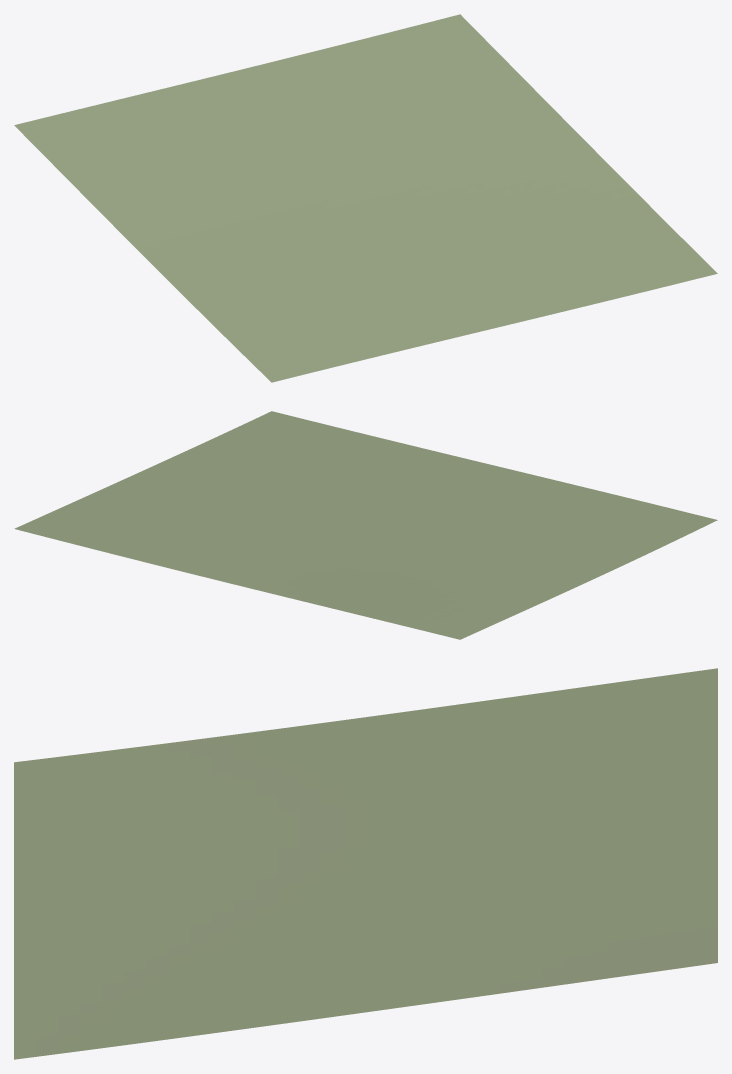
File: desert-25-11.glb
3 views of the same model, one above another, from view 1: azimuth 30°, elevation 25°; view 2: azimuth 150°, elevation 25°; view 3: azimuth 270°, elevation 25° (orthographic). The views are drawn at different scales.
Visible parts, largest first — view 1: desert-25-11; view 2: desert-25-11; view 3: desert-25-11.
Part boxes in pixels (left/top/right/bottom): desert-25-11: left=14, top=14, right=717, bottom=382; desert-25-11: left=14, top=411, right=717, bottom=639; desert-25-11: left=14, top=668, right=717, bottom=1059.
Bounding box in the file's own units: 512 × 77.95 × 512.
